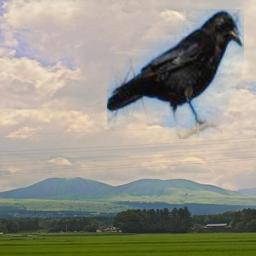Crow: (107, 9, 244, 139)
